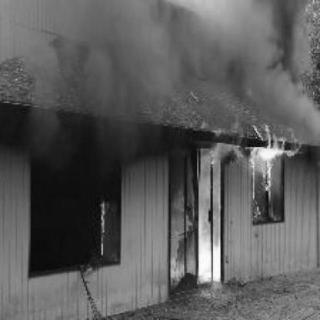Fire: (190, 137, 240, 285), (245, 125, 299, 219)
Smoke: (69, 3, 307, 110)
